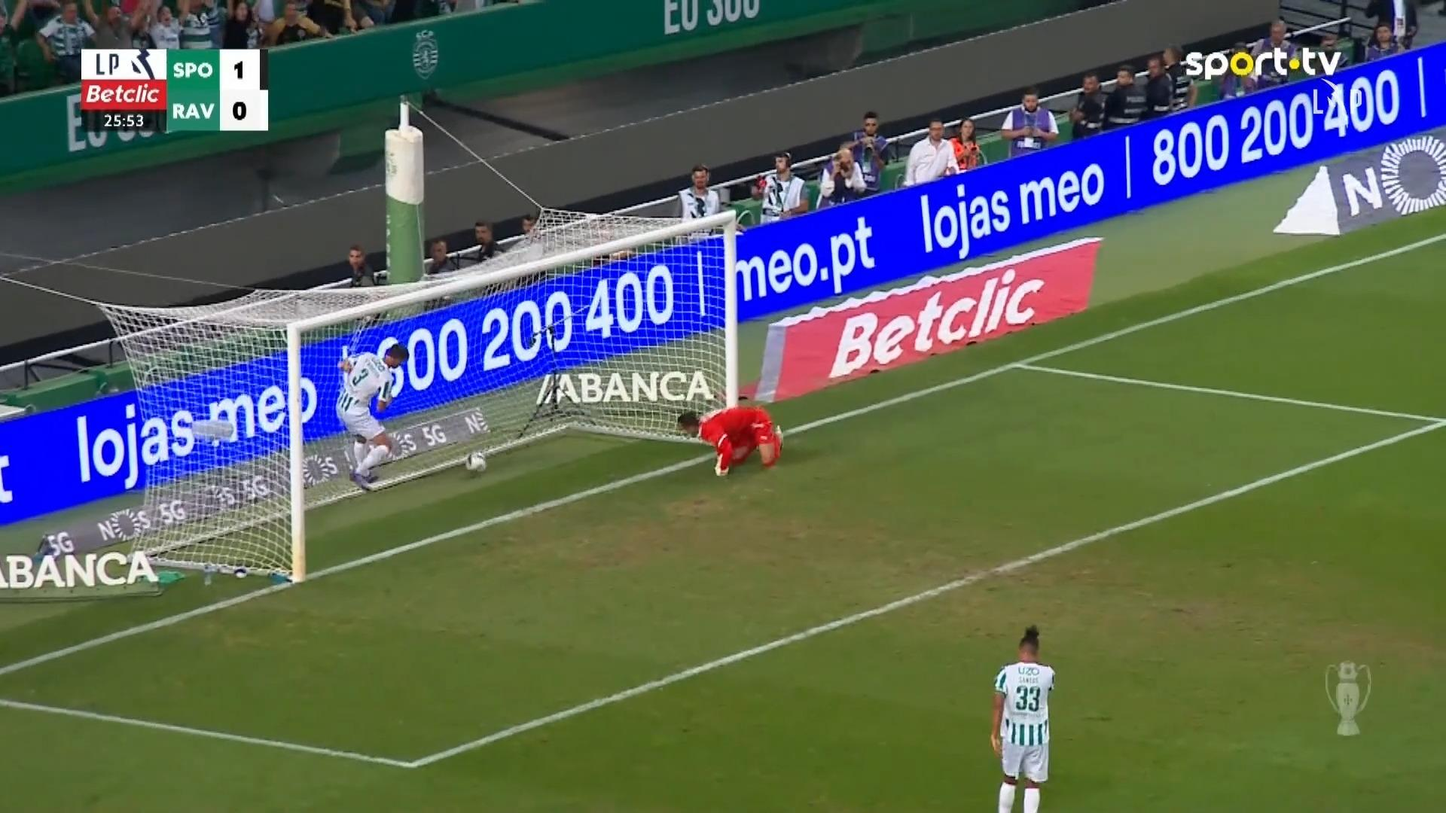ball: (465, 450, 486, 472)
goalkeeper: (675, 397, 783, 477)
player: (988, 625, 1055, 811), (334, 340, 410, 492)
